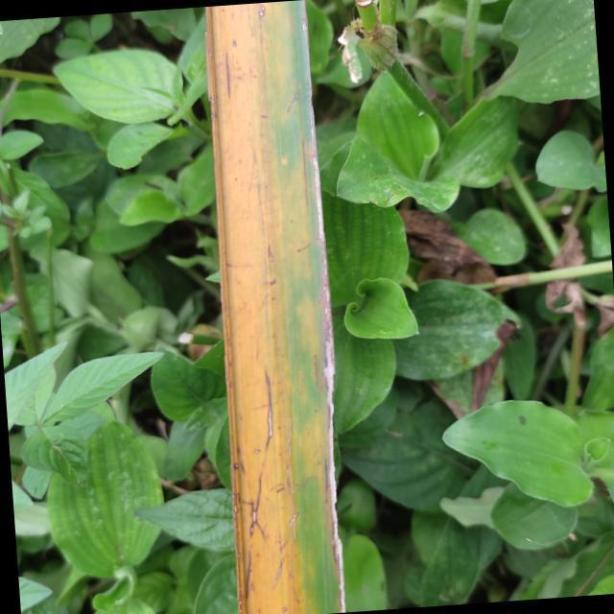Megnesium: (204, 3, 345, 614)
